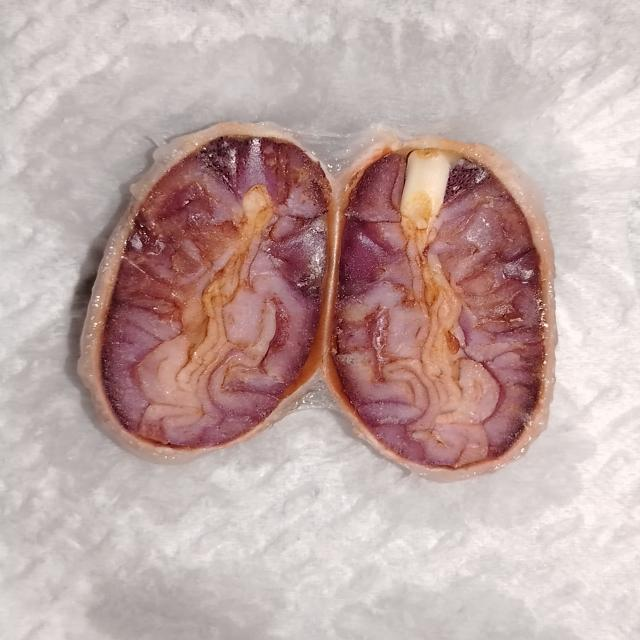Trinitario: (109, 132, 333, 449), (332, 149, 547, 466)
